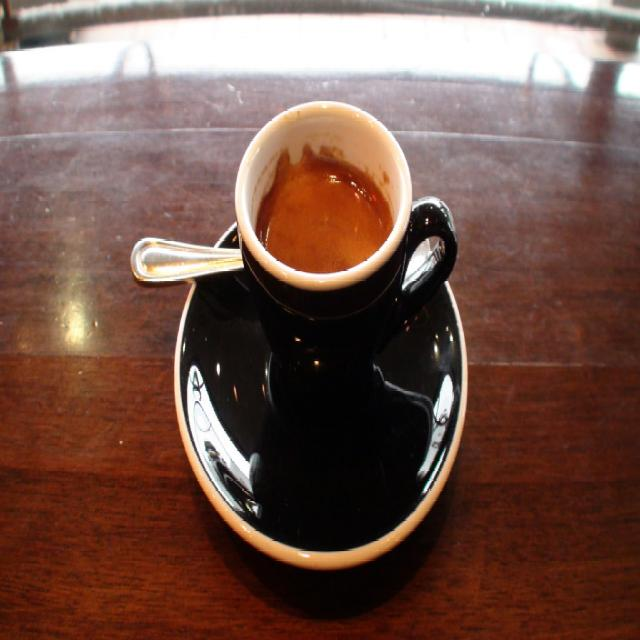Tea: (254, 152, 392, 269)
